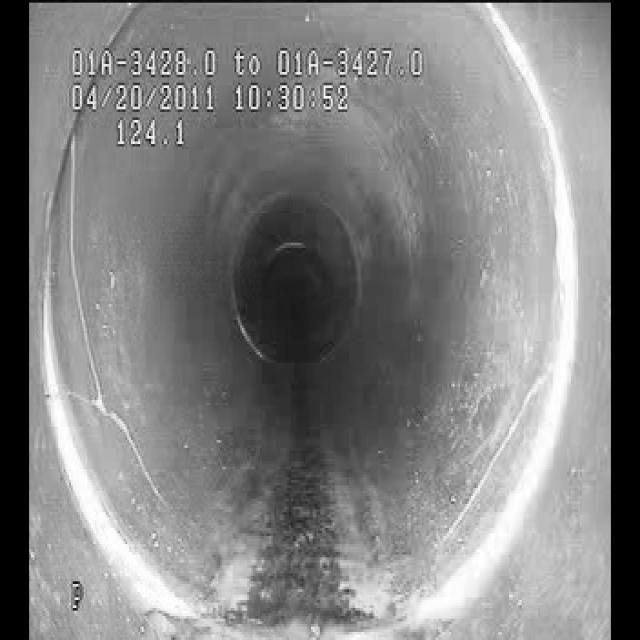Crack: (60, 166, 165, 515)
